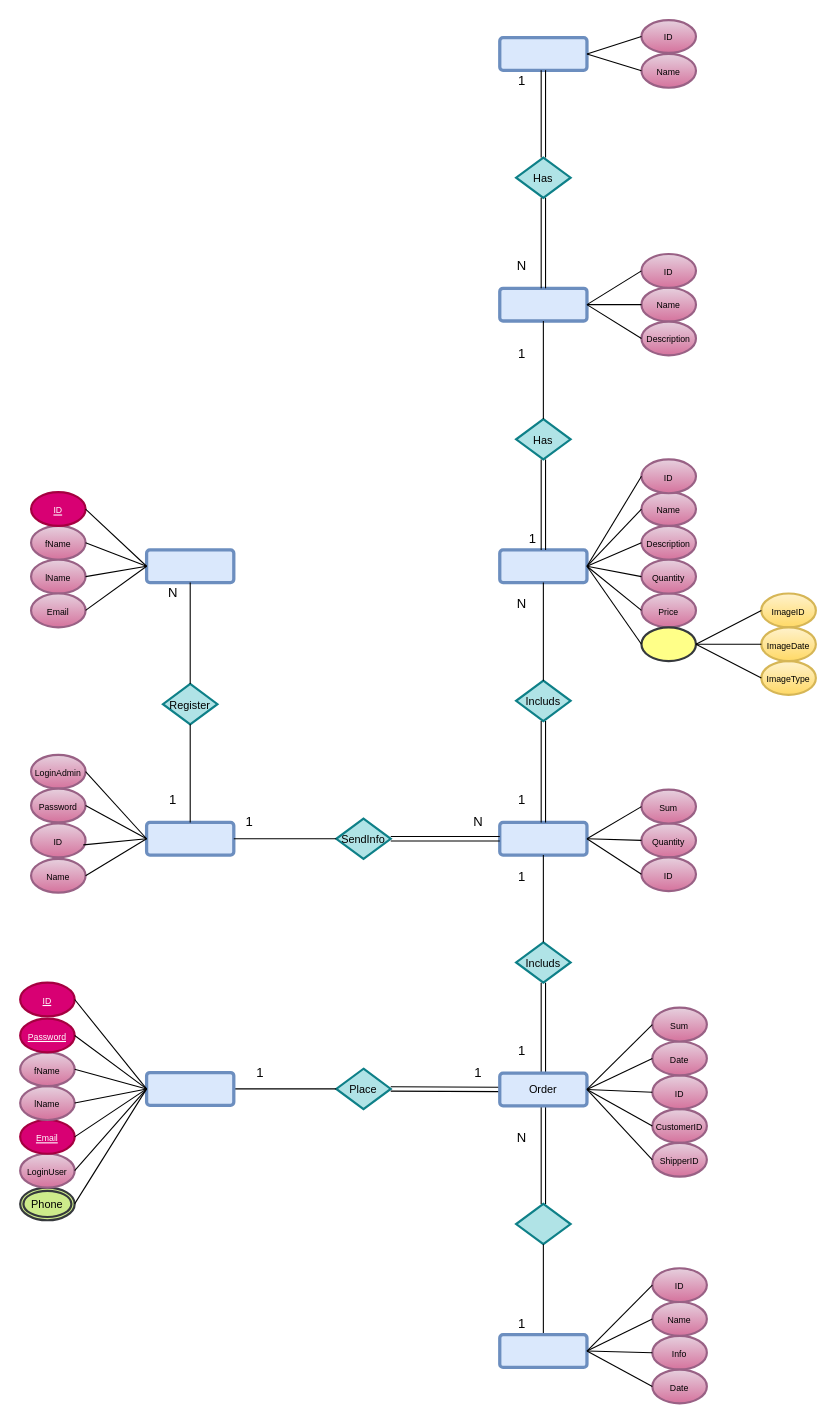
The diagram is 835 pixels wide and 1422 high, and some of its shapes have lost their labels. The centre of each missing label's shape, as x and y in pixels:
Admin: the point at 189,838
Category: the point at 543,53
CategoryDetail: the point at 543,304
Customer: the point at 189,1088
Image: the point at 668,644
Newsletter: the point at 189,566
OrderDetail: the point at 543,838
Product: the point at 543,566
Sends: the point at 542,1223
Shipper: the point at 543,1350
